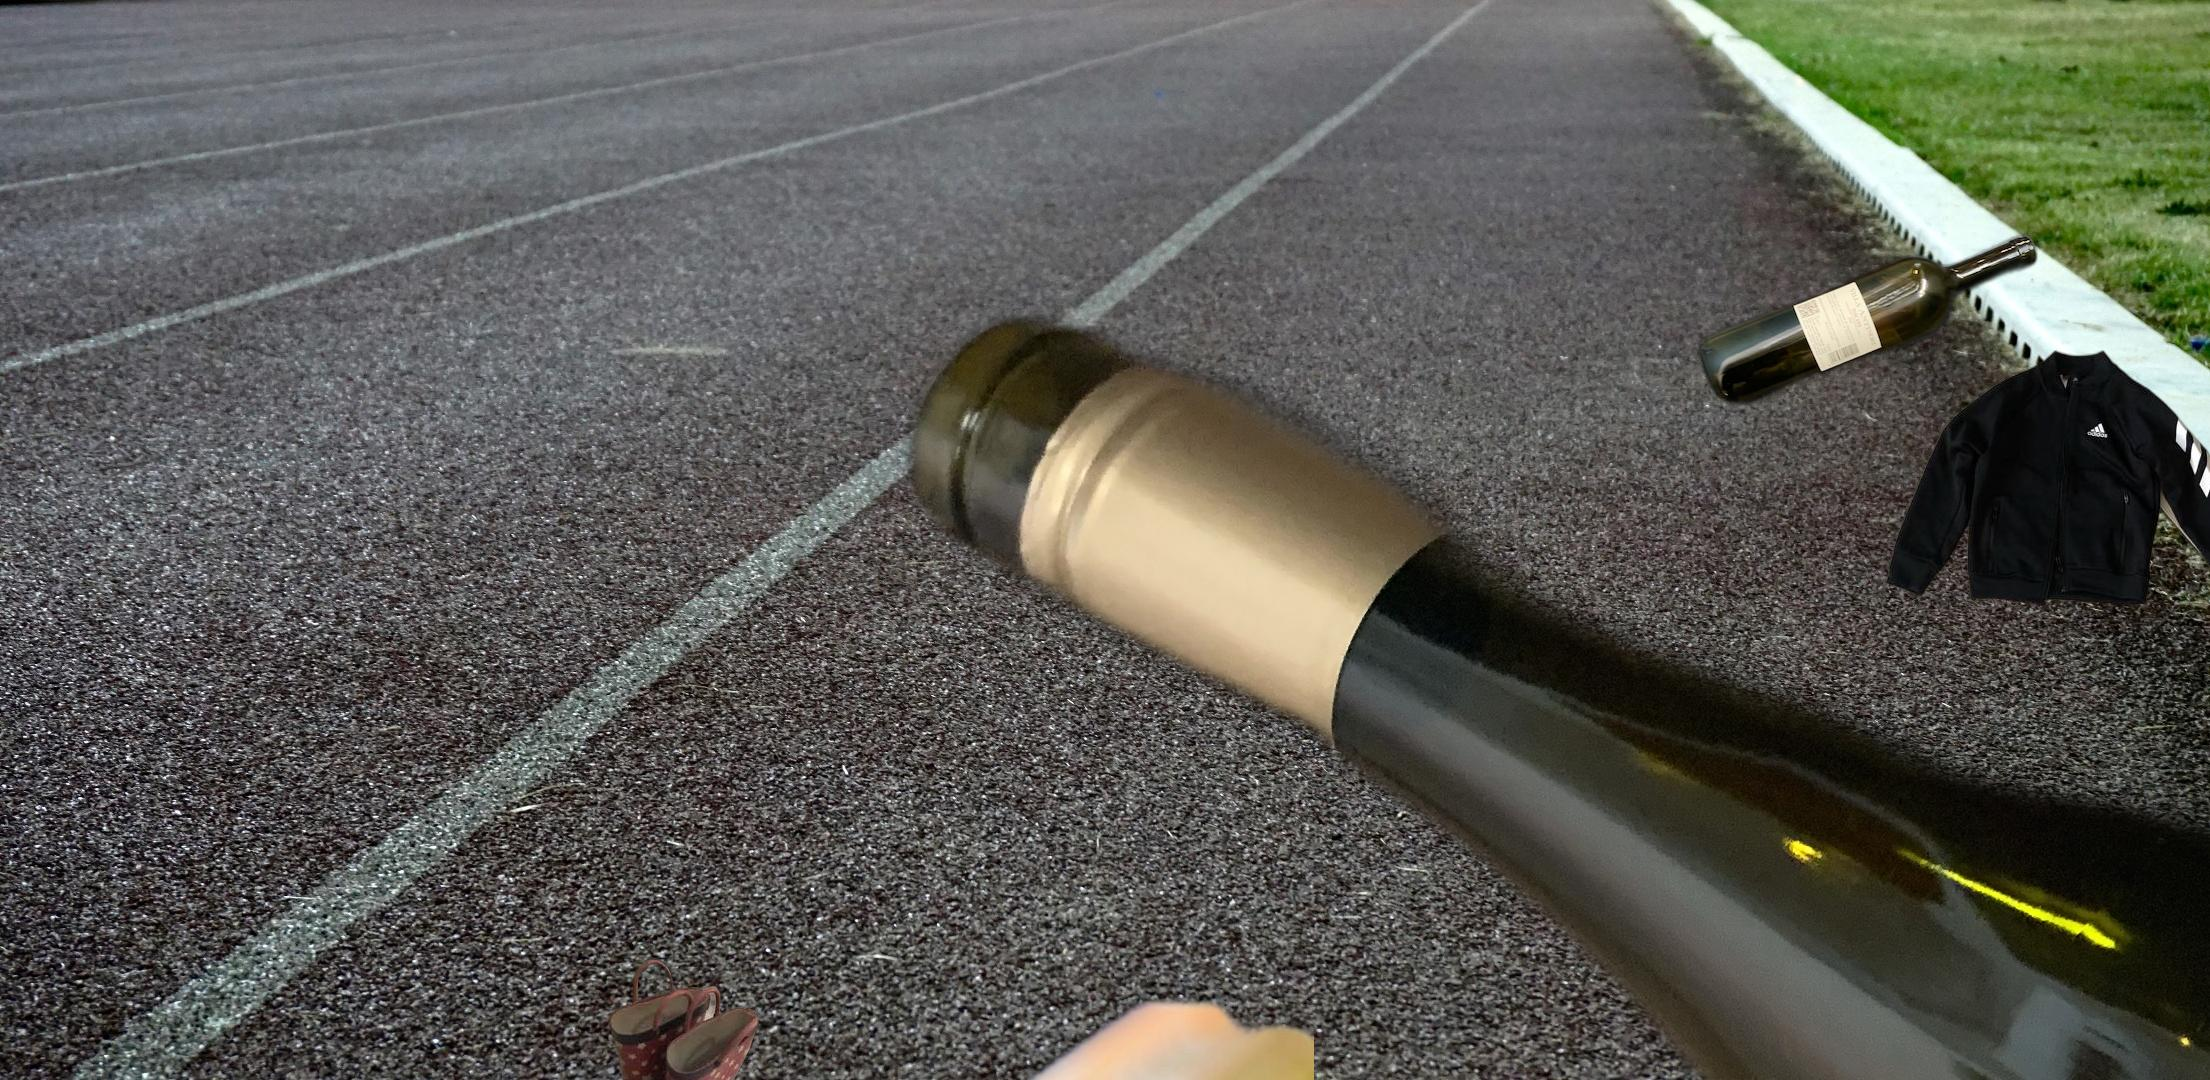clothes: (1870, 347, 2210, 639)
glass: (872, 289, 2210, 1080), (1629, 228, 2042, 728)
penholder: (538, 905, 1314, 1080)
shoes: (562, 952, 760, 1080)
